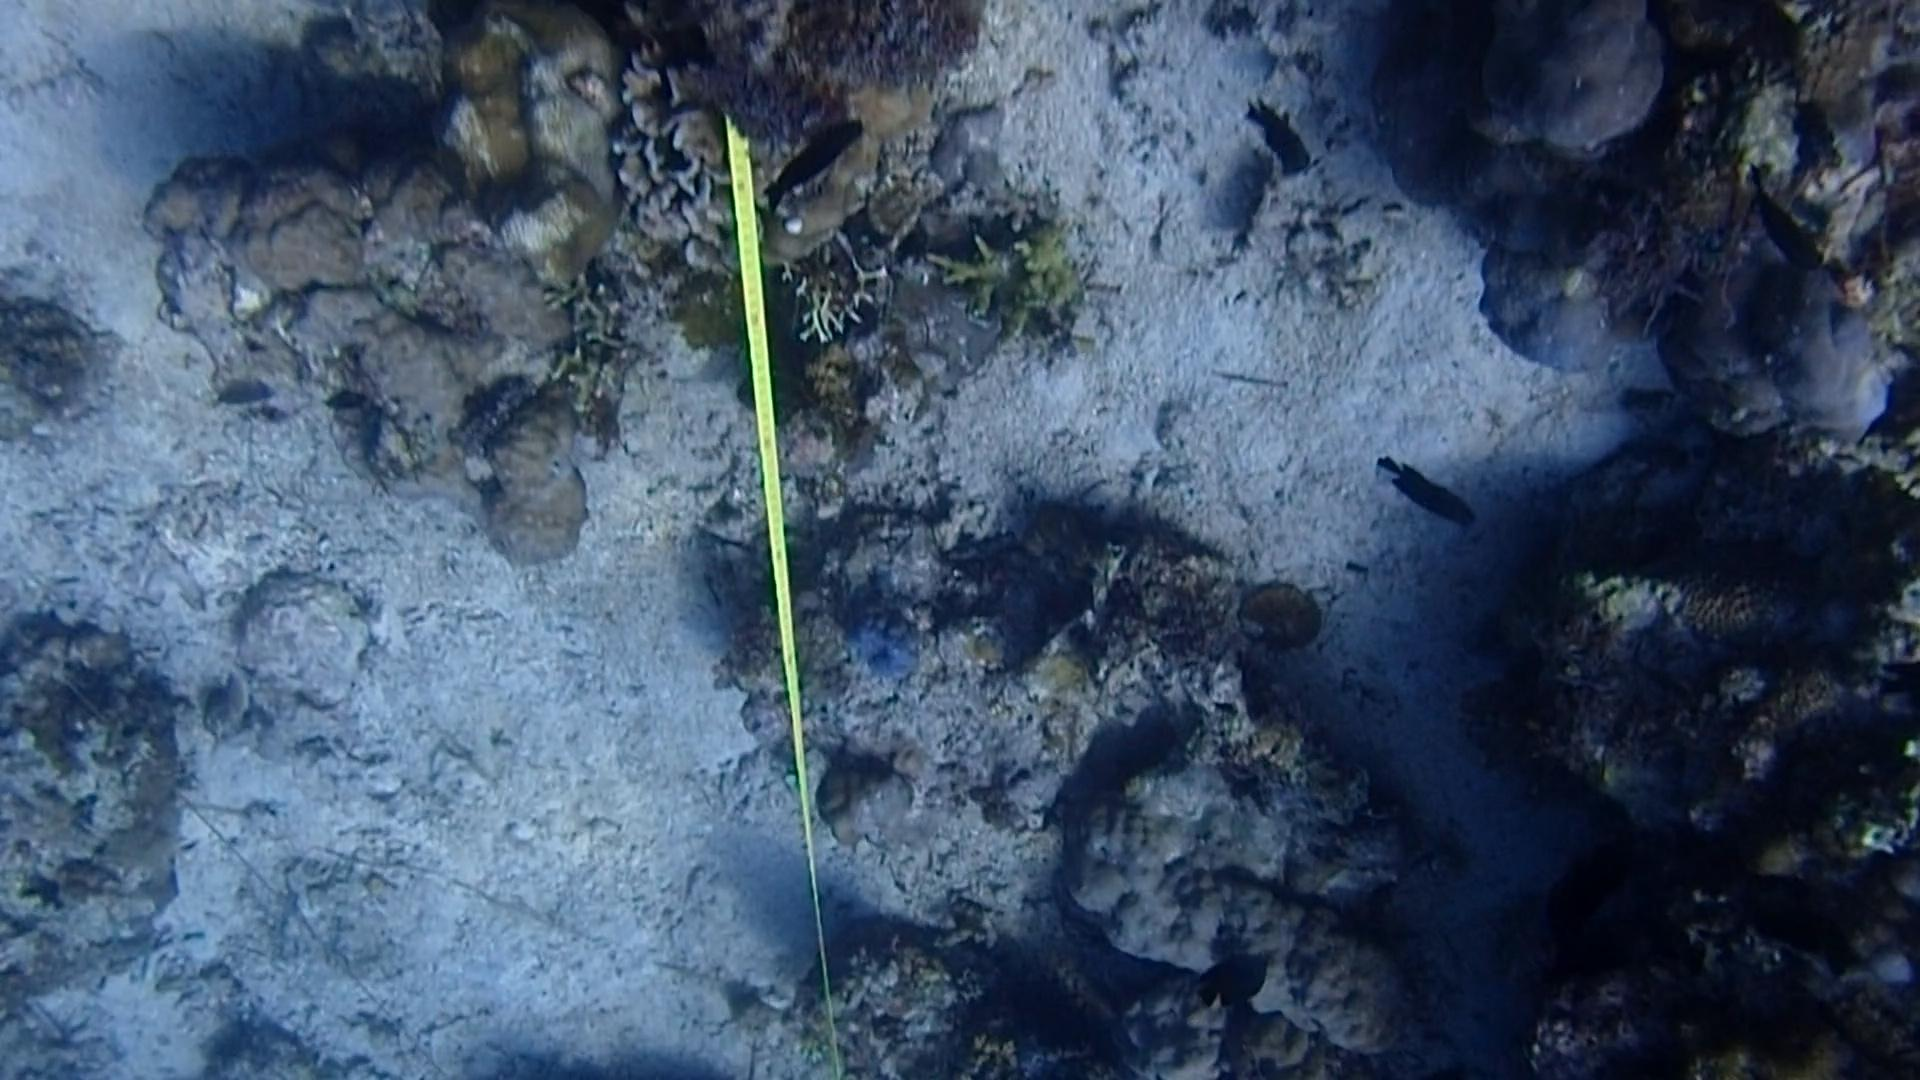Dark Fish: (1714, 162, 1828, 280), (1369, 435, 1485, 539), (1527, 844, 1650, 927), (766, 112, 869, 210), (1185, 934, 1292, 1022), (1241, 107, 1324, 193)
Light Fish: (212, 657, 262, 737)
